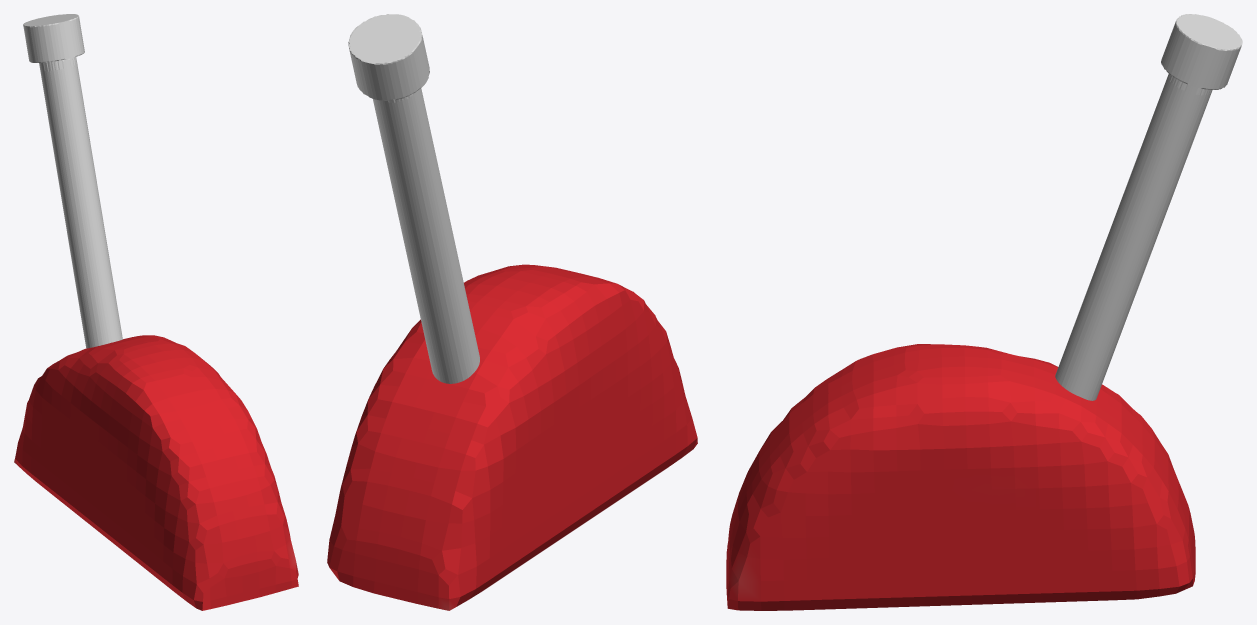
File: Puzzle Switch.fbx
The picture shows the model from 3 angles, left to right: view 1: azimuth 30°, elevation 25°; view 2: azimuth 150°, elevation 25°; view 3: azimuth 270°, elevation 25°; orthographic projection. The views are drawn at different scales.
Visible parts, largest first — view 1: Switch Base, Switch Handle, Switch Grip; view 2: Switch Base, Switch Handle, Switch Grip; view 3: Switch Base, Switch Handle, Switch Grip.
Part boxes in pixels (left/top/right/bottom): Switch Base: left=14, top=335, right=298, bottom=610; Switch Handle: left=39, top=57, right=122, bottom=348; Switch Grip: left=23, top=14, right=84, bottom=62; Switch Base: left=327, top=264, right=697, bottom=610; Switch Handle: left=373, top=88, right=479, bottom=383; Switch Grip: left=348, top=14, right=429, bottom=100; Switch Base: left=726, top=344, right=1195, bottom=610; Switch Handle: left=1055, top=74, right=1212, bottom=400; Switch Grip: left=1161, top=14, right=1242, bottom=89.
Bounding box in the file's own units: 67.73 × 261 × 220.
